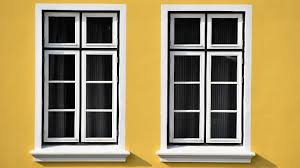window: (36, 5, 124, 159), (163, 5, 250, 159)
